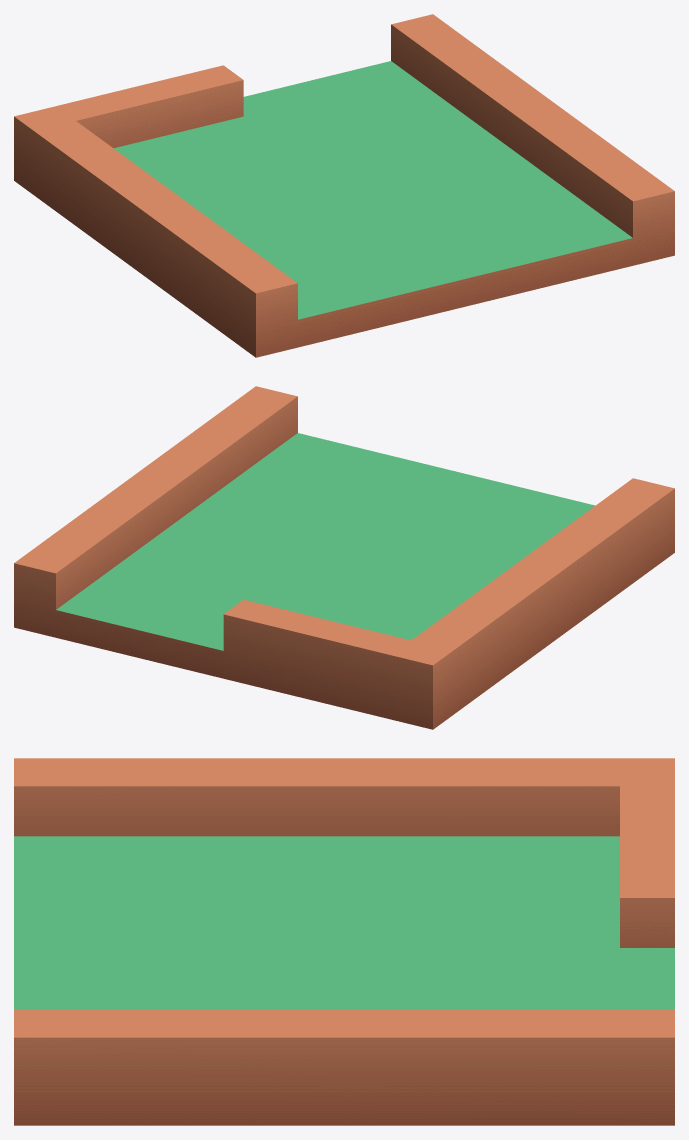
The model's file is wall-right.glb.
3 views of the same model, one above another, from view 1: azimuth 30°, elevation 25°; view 2: azimuth 150°, elevation 25°; view 3: azimuth 270°, elevation 25° (orthographic). The views are drawn at different scales.
Parts seen in each view (by area): view 1: wall-right; view 2: wall-right; view 3: wall-right.
Boxes of the visible parts, <box> form: wall-right: <box>14,14,674,357</box>; wall-right: <box>14,386,674,729</box>; wall-right: <box>14,758,674,1125</box>.
Bounding box in the file's own units: 0.9999 × 0.1467 × 0.9999.
1 material, 1 textured.
